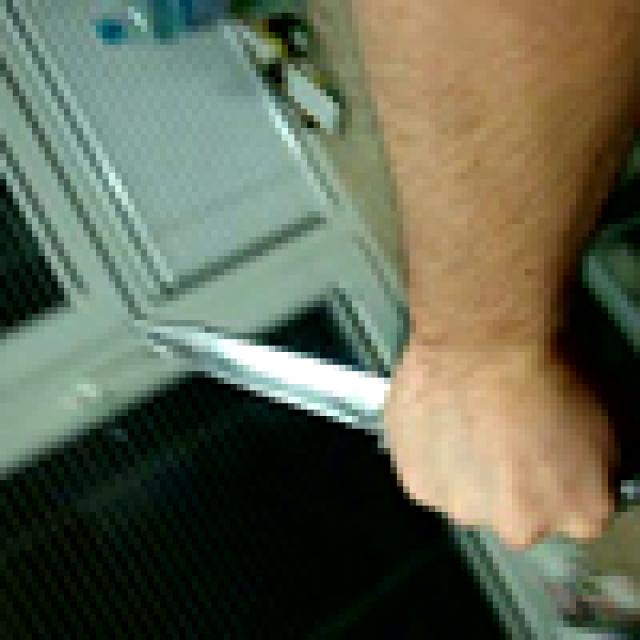Knife: (134, 294, 397, 454)
